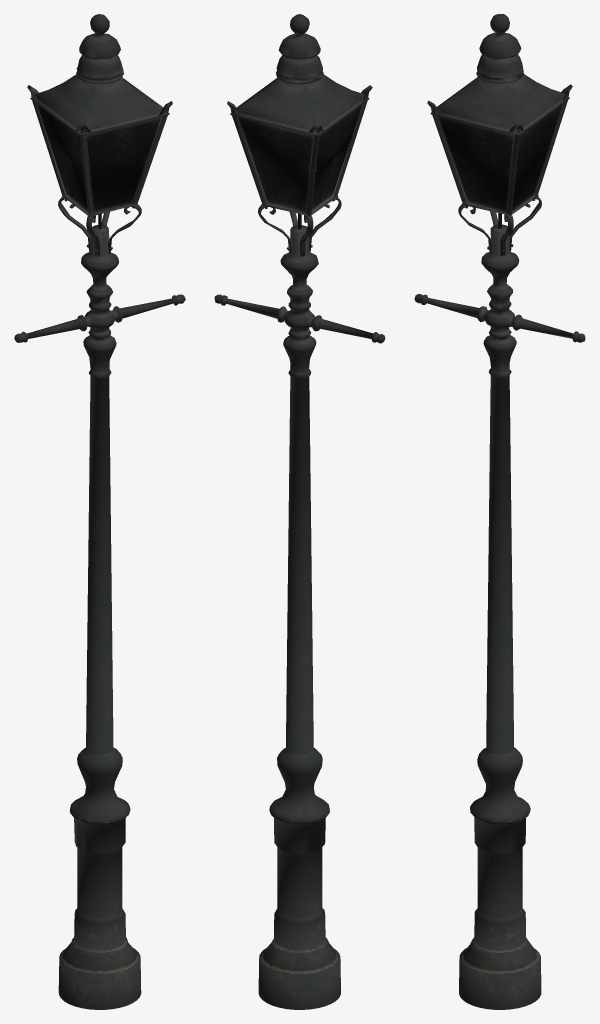
File: street_lamp_lo.glb
The picture shows the model from 3 angles, left to right: view 1: azimuth 30°, elevation 25°; view 2: azimuth 150°, elevation 25°; view 3: azimuth 330°, elevation 25°; orthographic projection.
Visible parts, largest first — view 1: street_lamp_01; view 2: street_lamp_01; view 3: street_lamp_01.
Part boxes in pixels (box(x1,y1,x2,y2)): street_lamp_01: box(14, 14, 185, 1009); street_lamp_01: box(214, 14, 385, 1009); street_lamp_01: box(414, 14, 585, 1009).
Bounding box in the file's own units: 0.7039 × 3.87 × 0.386.
2 materials, 2 textured.
